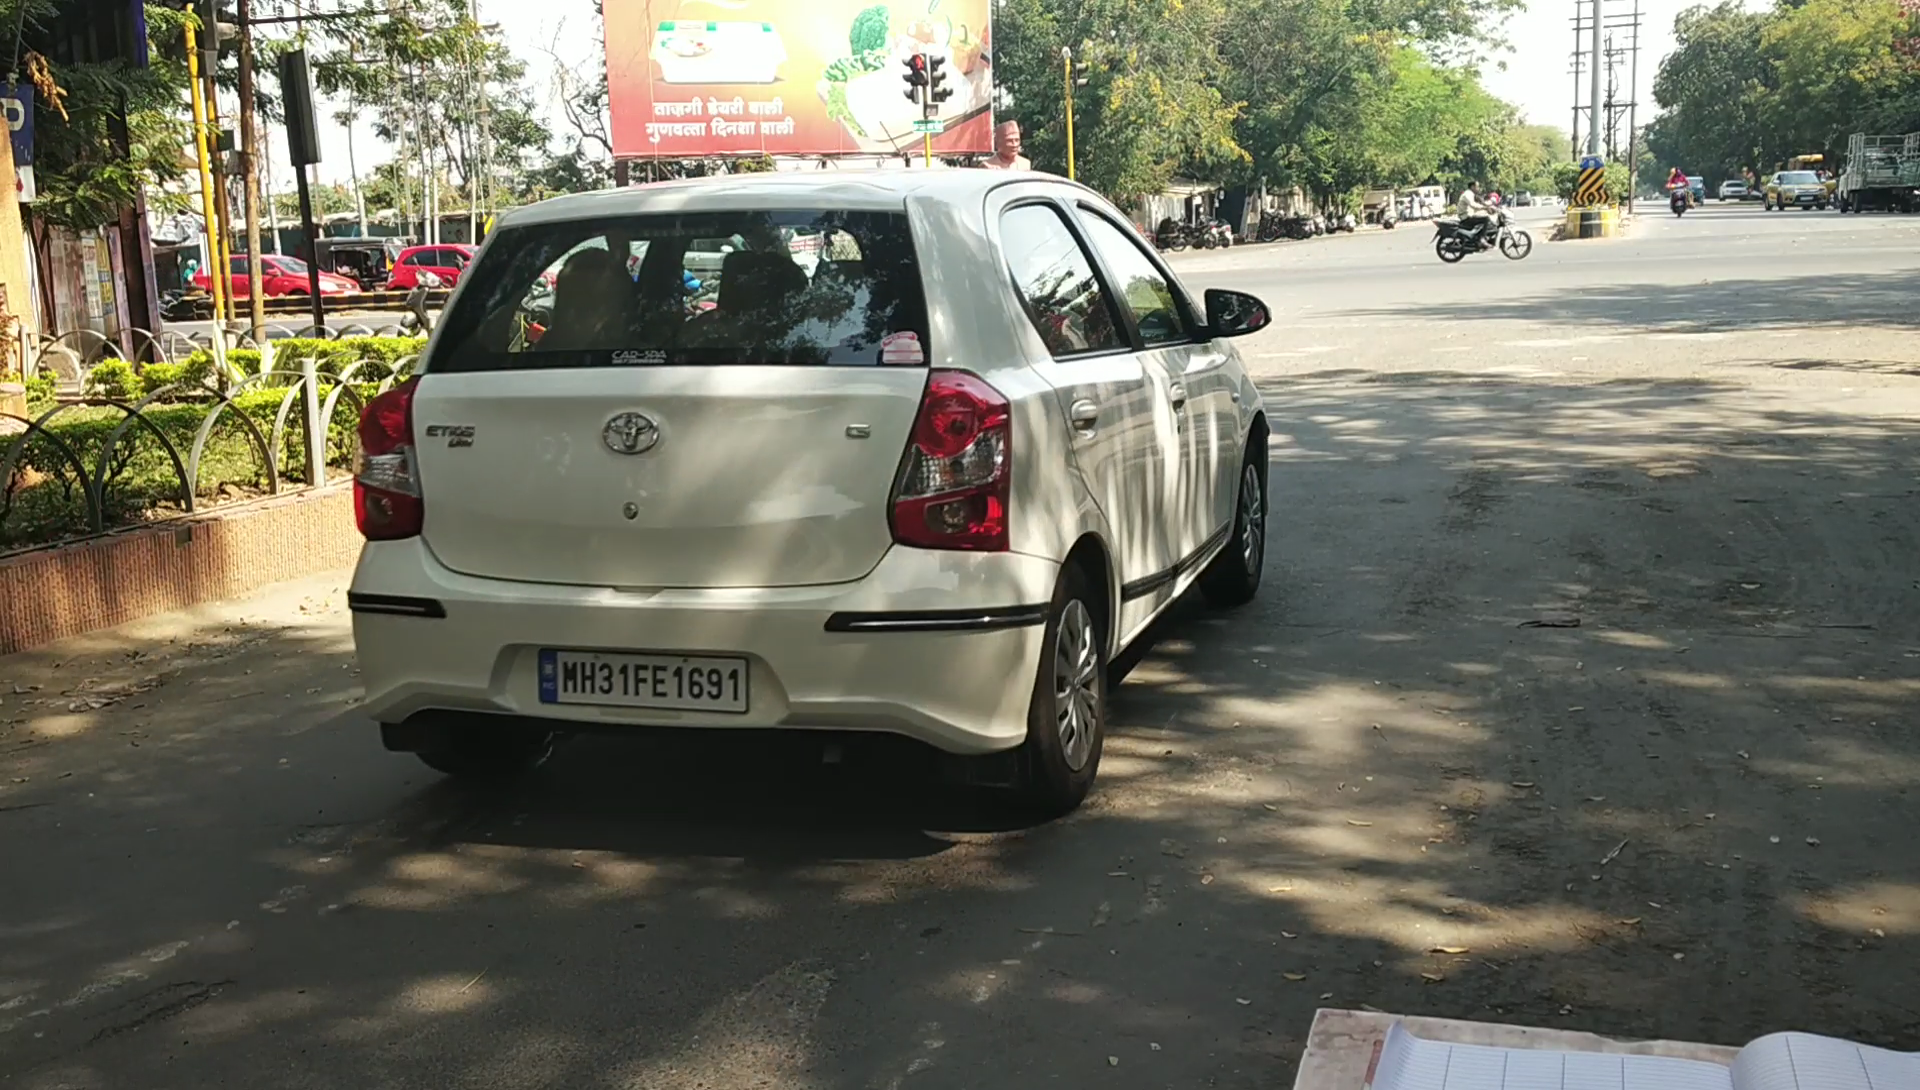car: (342, 137, 1312, 828)
numplate: (531, 642, 761, 723)
